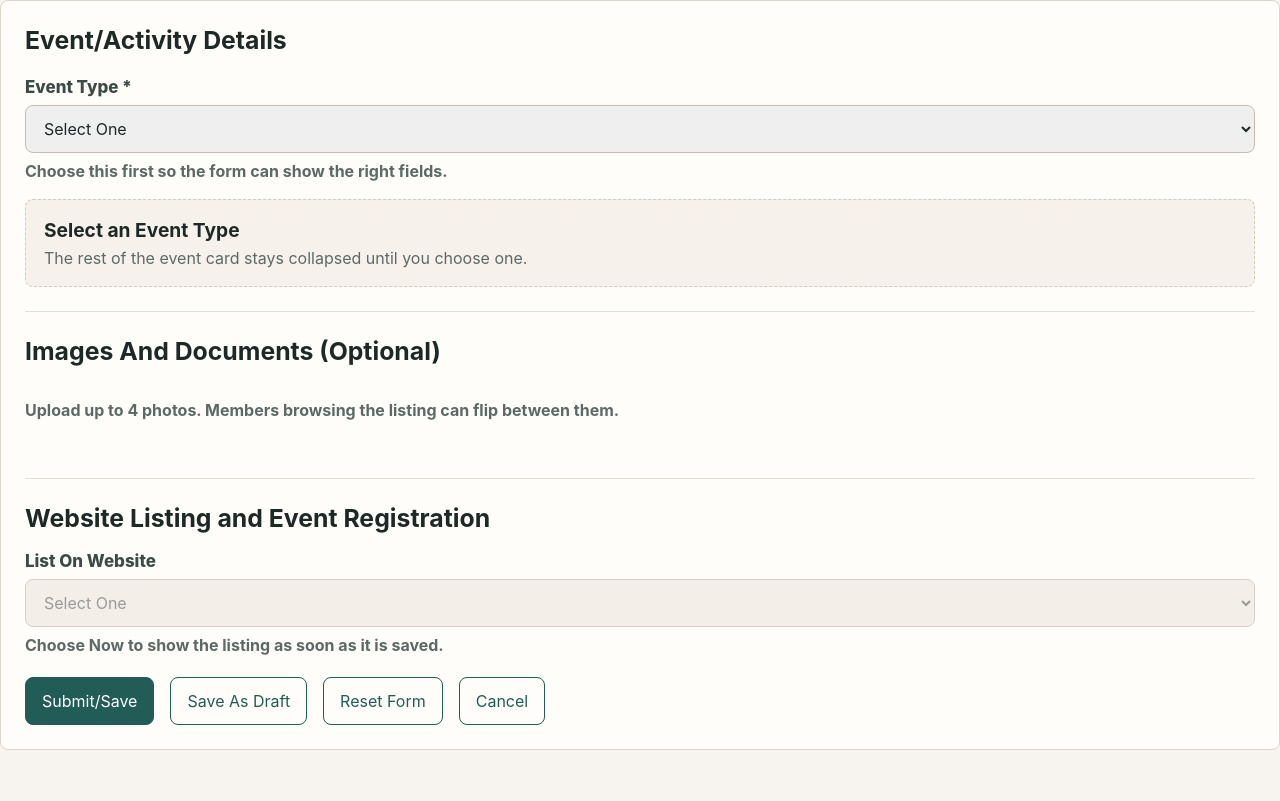
EventForm payment type checkboxes › shows Cost and Service Fee for Online, only Cost for Cash/Check Only, and neither for Free
This screenshot has width=1280, height=801.
Select "Workshop" in the dropdown labelled "Event Type" at coordinates (640, 129), box [25, 105, 1255, 153]
(page scrolled)
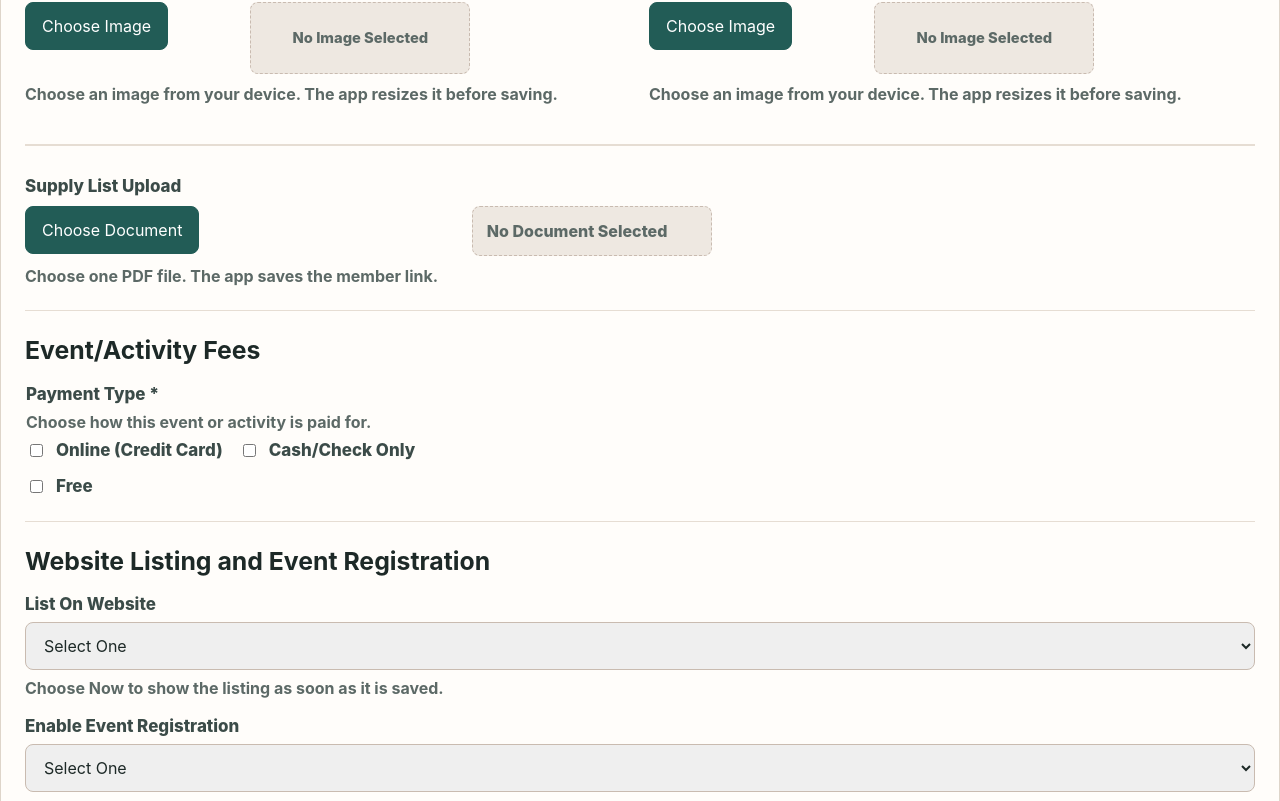
Click the checkbox labelled "Online (Credit Card)" at coordinates (36, 450), box [30, 444, 43, 456]
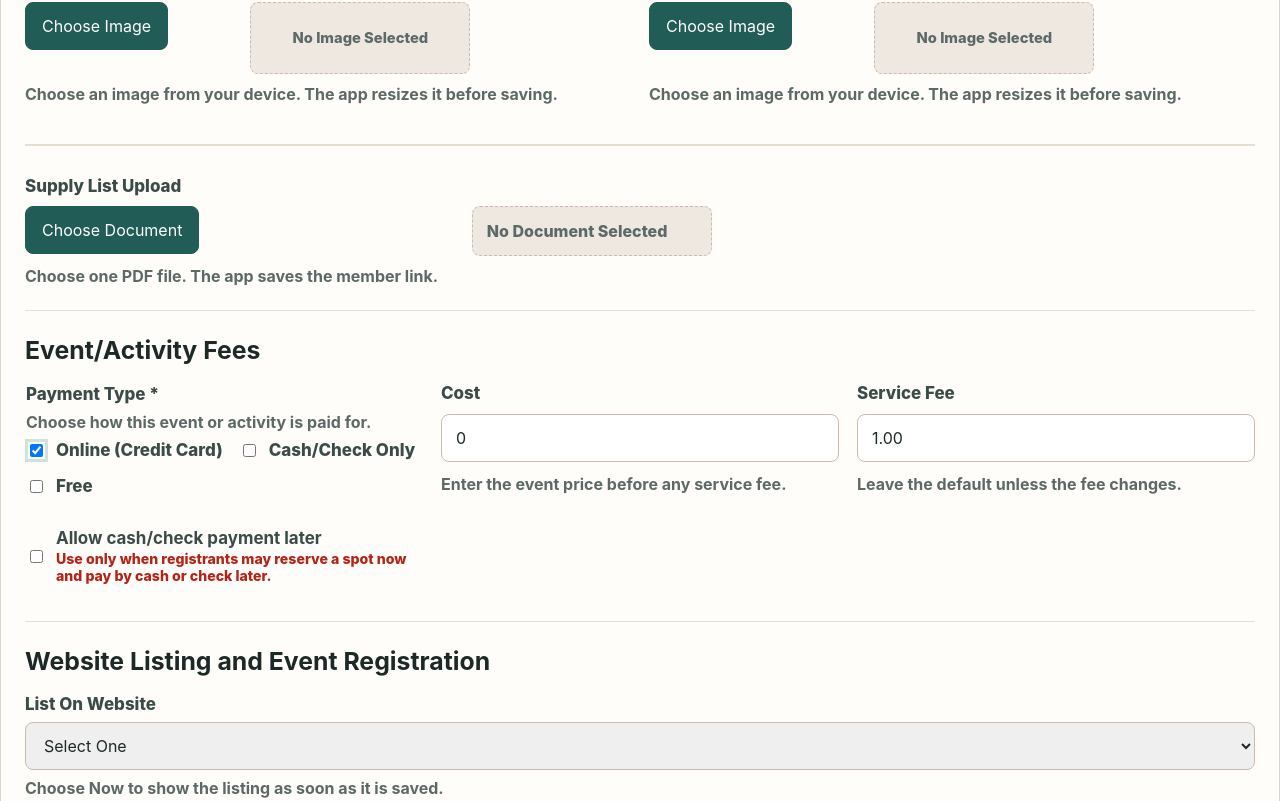
Result: the number field labelled "Cost Enter the event price before any service fee." is shown at [441, 414, 839, 462]
Result: the number field labelled "Service Fee Leave the default unless the fee changes." is shown at [857, 414, 1255, 462]
Click the checkbox labelled "Cash/Check Only" at coordinates (249, 450), box [243, 444, 256, 456]
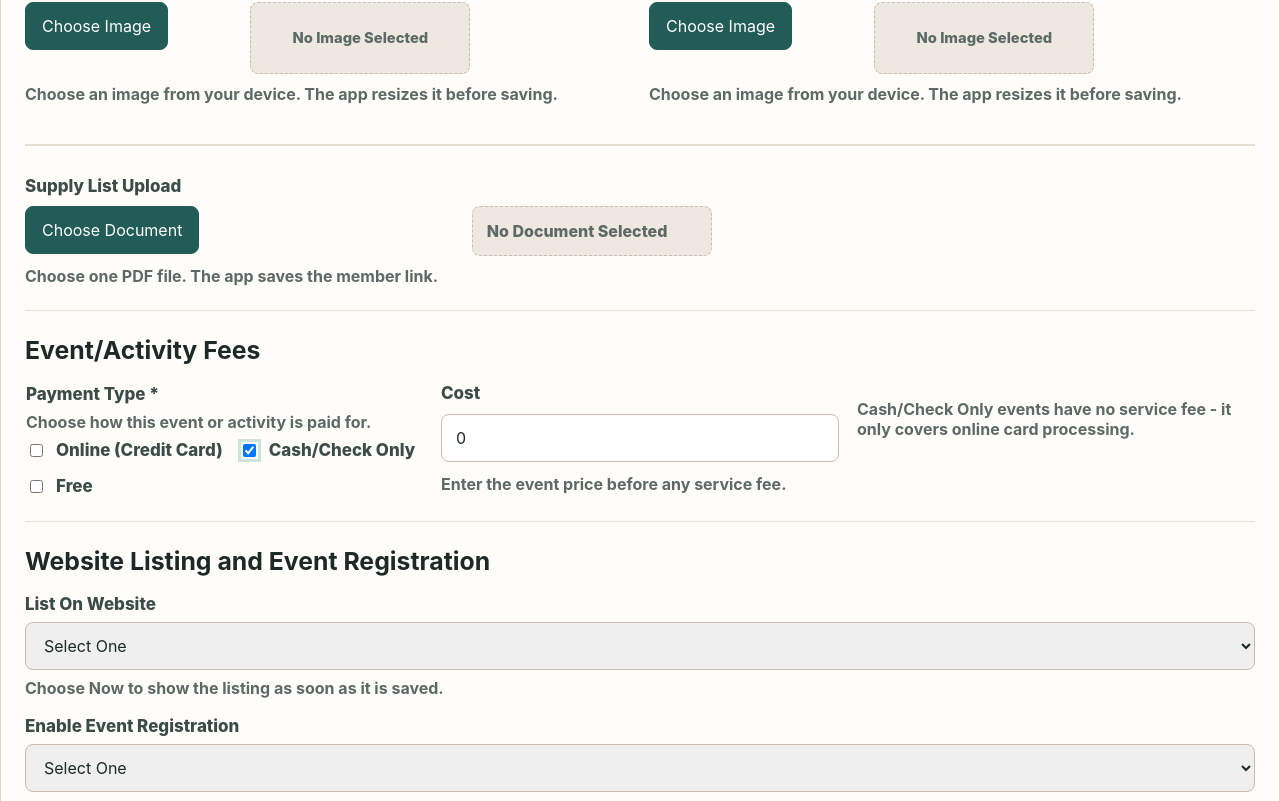
Result: the number field labelled "Cost Enter the event price before any service fee." is shown at [441, 414, 839, 462]
Click the checkbox labelled "Free" at coordinates (36, 486), box [30, 480, 43, 492]
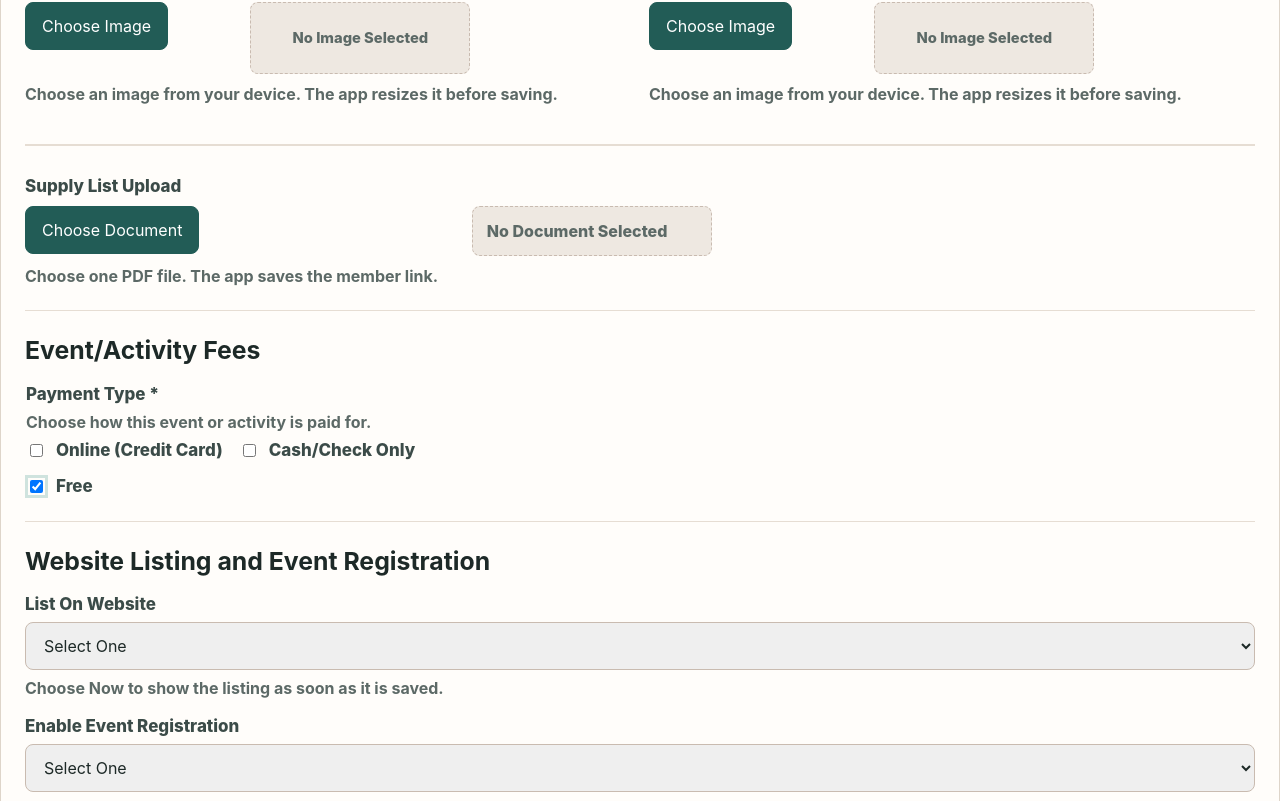
Expected: the text labelled "Service Fee" is not shown
Result: the text labelled "Cost" is gone
